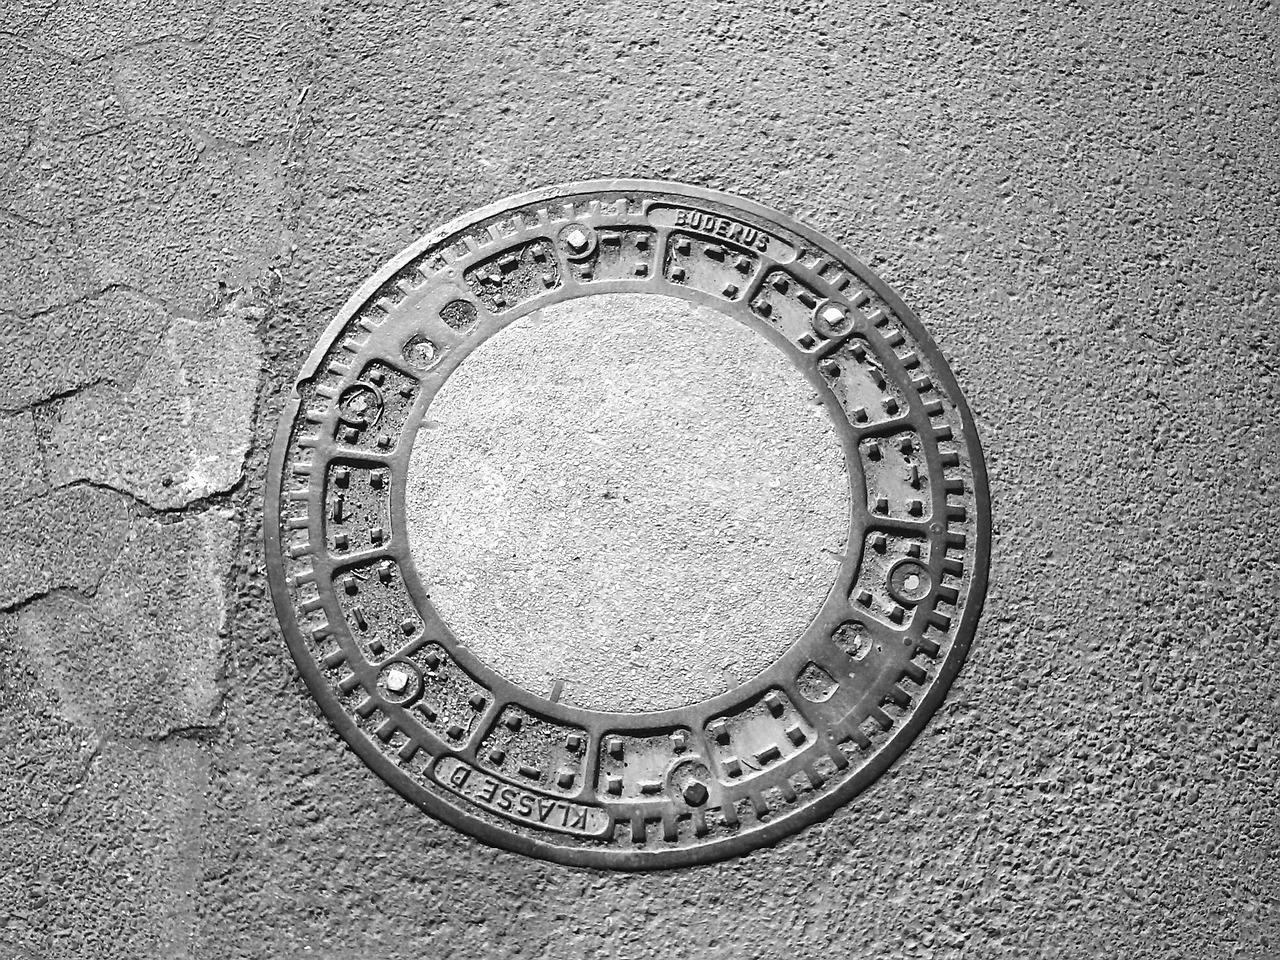wellcover: (251, 183, 1006, 876)
